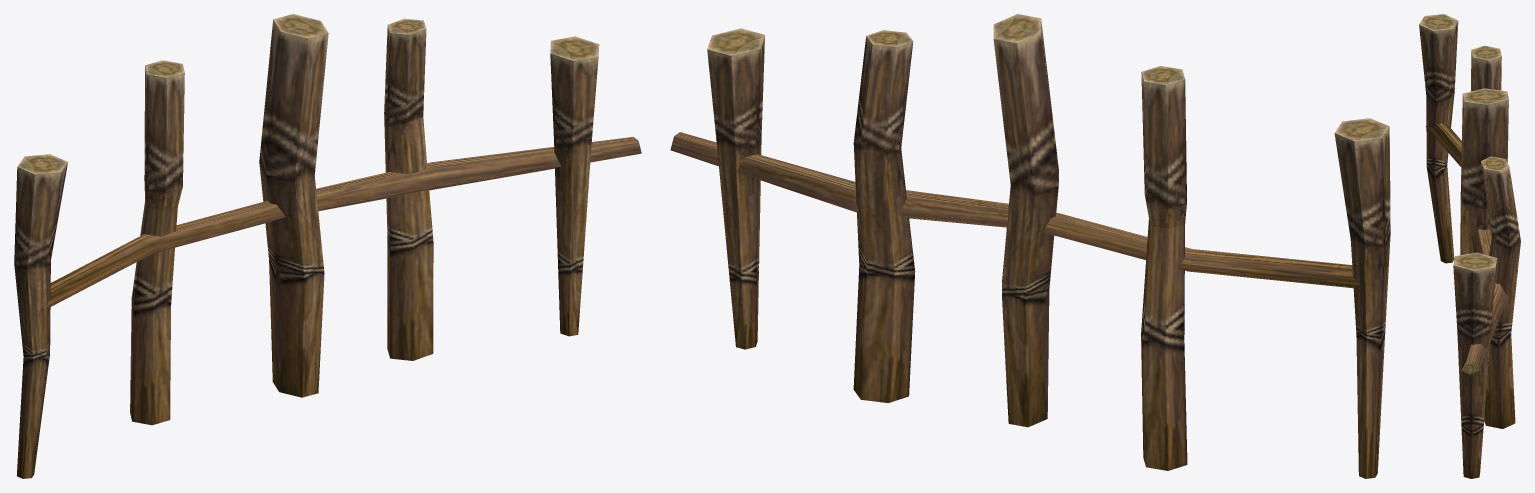
File: 7003_Item_zhalan_2.FBX
3 renders of one model, left to right at view 1: azimuth 30°, elevation 25°; view 2: azimuth 150°, elevation 25°; view 3: azimuth 270°, elevation 25°, orthographic. The views are drawn at different scales.
Parts seen in each view (by area): view 1: 7003_Item_zhalan_2; view 2: 7003_Item_zhalan_2; view 3: 7003_Item_zhalan_2.
Part boxes in pixels (bbox=[...]): 7003_Item_zhalan_2: bbox=[14, 14, 641, 478]; 7003_Item_zhalan_2: bbox=[670, 14, 1390, 478]; 7003_Item_zhalan_2: bbox=[1419, 14, 1520, 478].
Size of the model in its own units: 257 by 45.91 by 140.
1 material, 1 textured.
